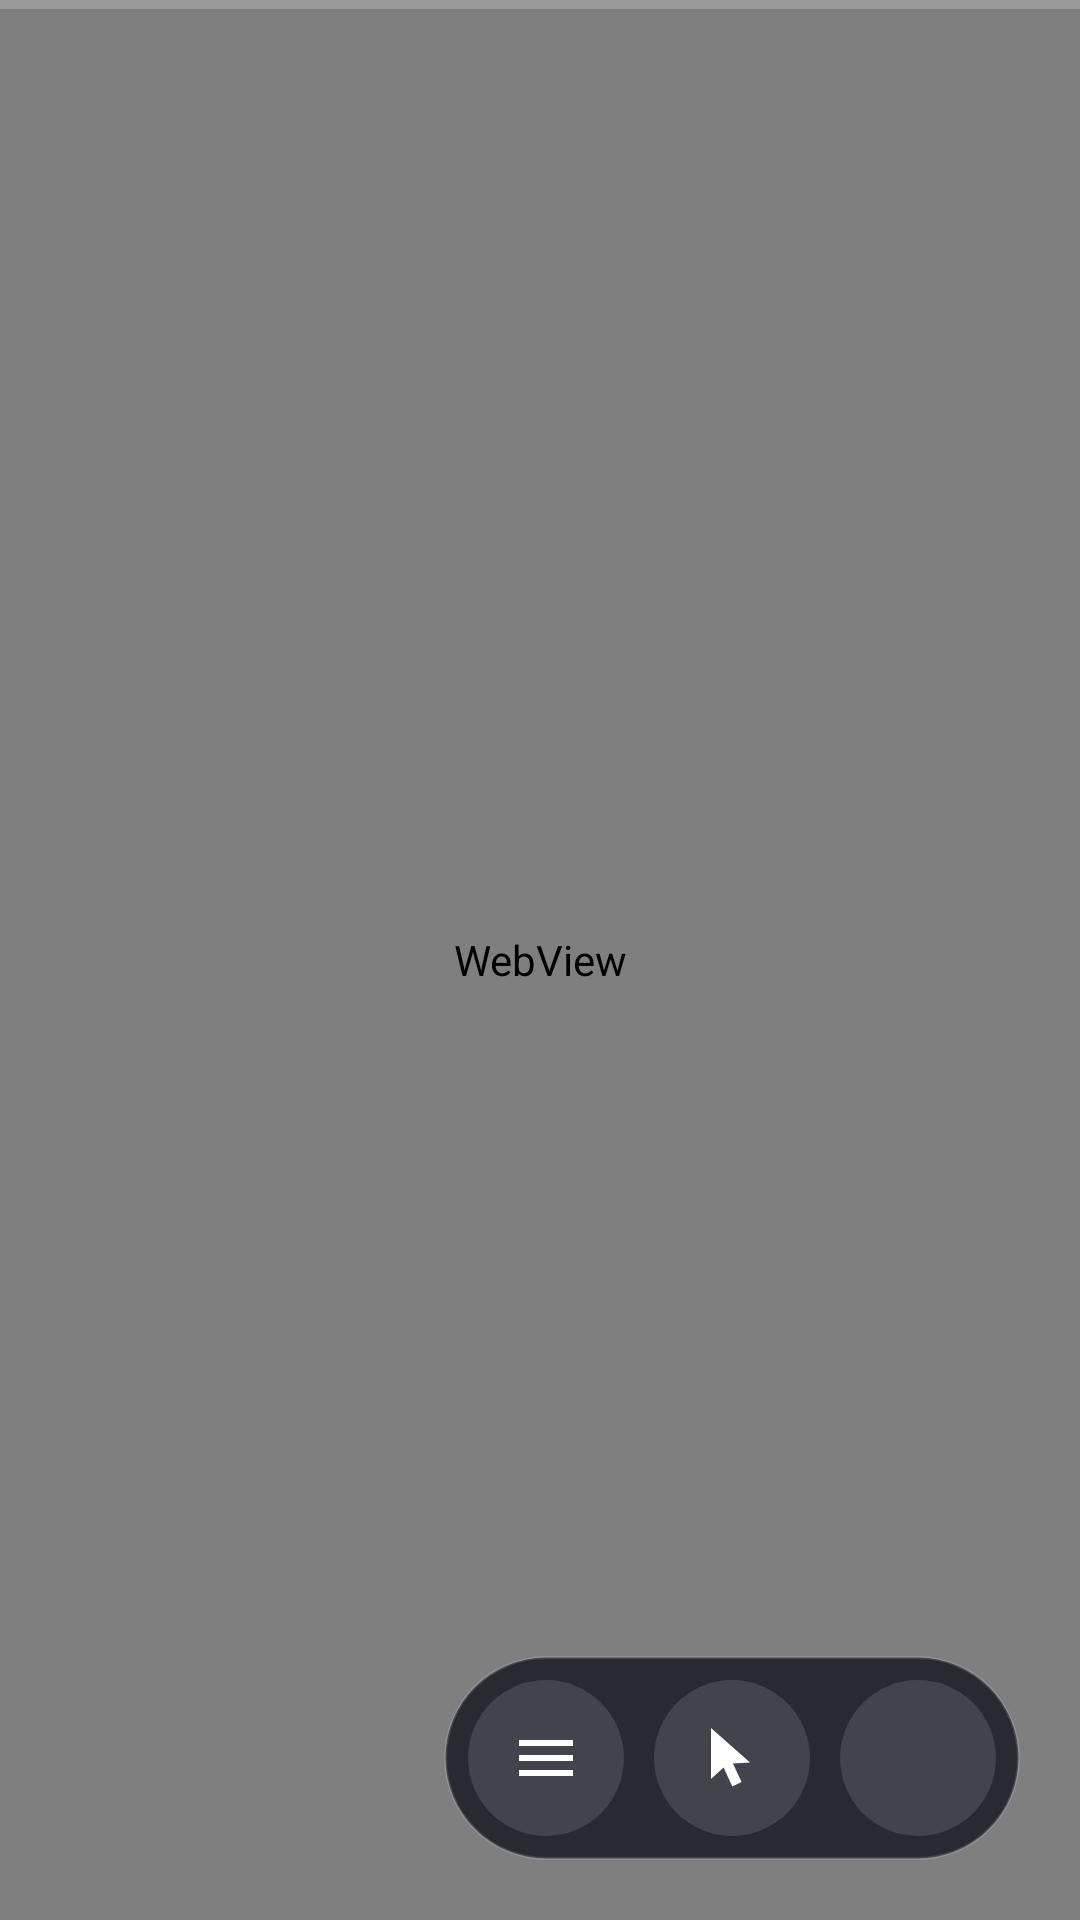

Named icons in this screenshot (1080×1920) and their bounding boxes, Rect(x1, y1, x2, y2):
Toggle pointer: Rect(654, 1680, 810, 1836)
